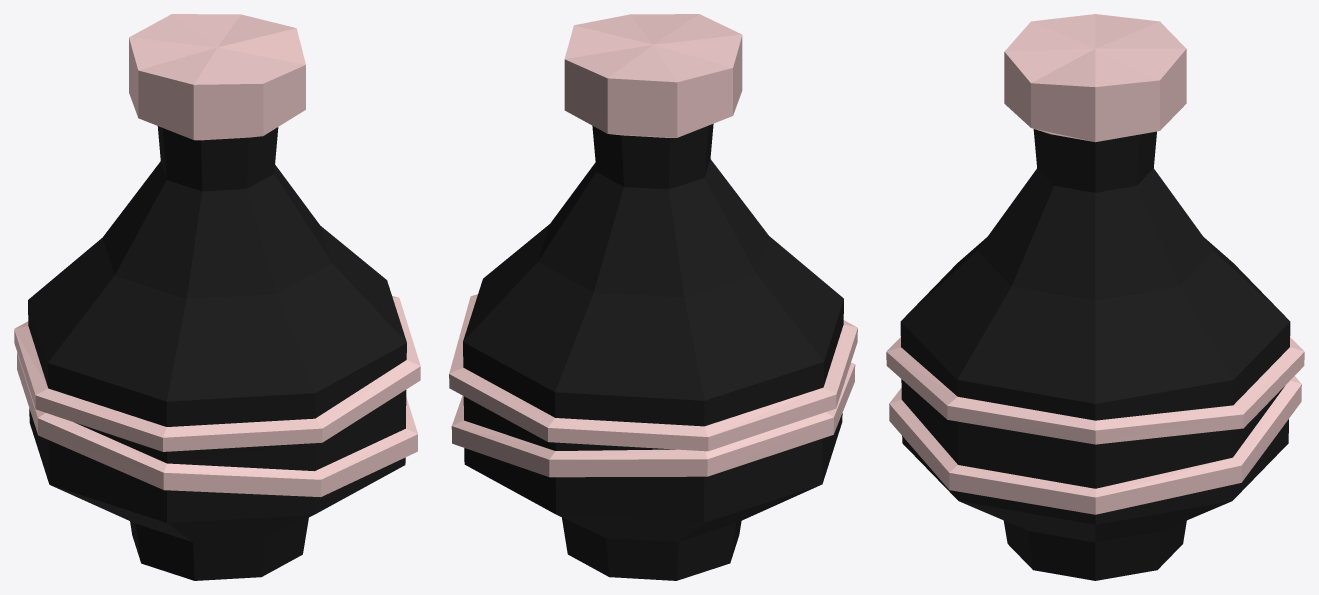
The model's file is SM_Item_Potion_01.glb.
The picture shows the model from 3 angles, left to right: view 1: azimuth 30°, elevation 25°; view 2: azimuth 150°, elevation 25°; view 3: azimuth 270°, elevation 25°; orthographic projection.
Visible parts, largest first — view 1: SM_Item_Potion_01_00; view 2: SM_Item_Potion_01_00; view 3: SM_Item_Potion_01_00.
Boxes of the visible parts, left/top/right/bottom form: SM_Item_Potion_01_00: left=14, top=14, right=420, bottom=580; SM_Item_Potion_01_00: left=449, top=14, right=857, bottom=580; SM_Item_Potion_01_00: left=886, top=14, right=1304, bottom=580.
Size of the model in its own units: 0.1631 by 0.213 by 0.163.
Materials: 1 (1 with a texture image).
